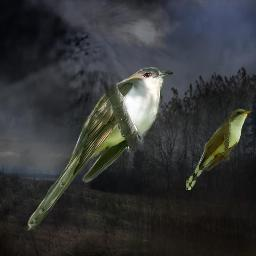Cuckoo: (25, 66, 175, 234), (186, 109, 252, 190)
